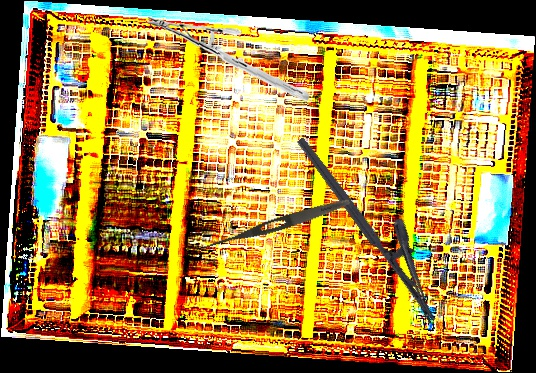Dressing Forceps: (201, 194, 352, 256)
Needle Holder: (295, 118, 462, 325), (146, 6, 310, 111)
